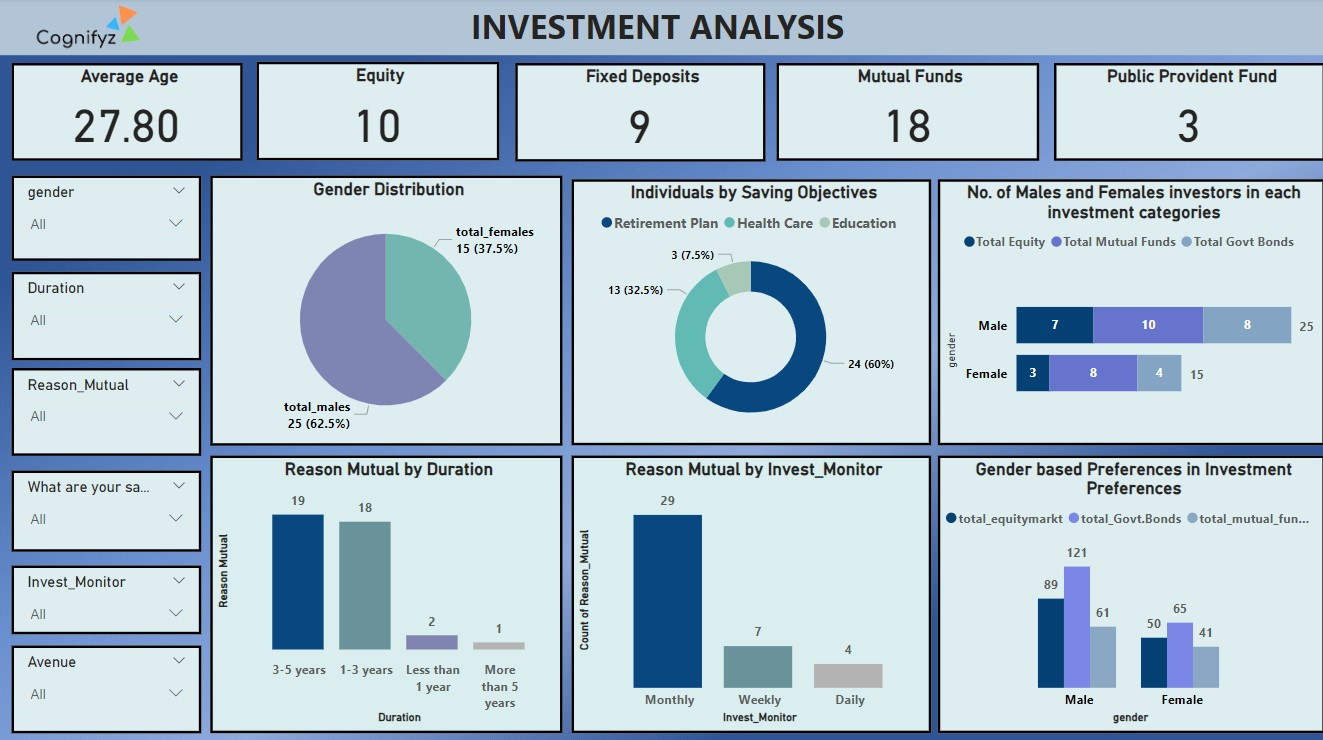

Layout of this report page (visuals, bound fields, positions):
{"tool":"powerbi","page":{"name":"Dasboard1","canvas":[1280,720],"ordinal":6},"visuals":[{"type":"card","title":"Average Age","fields":{"Values":["Sales_data.Average_age"]},"box":[12.1,62.7,223.2,94.1],"z":0},{"type":"textbox","box":[0,0,1280.3,55],"z":1000},{"type":"card","title":"Equity","fields":{"Values":["Sales_data.correlation_for_Equity"]},"box":[248.5,61.5,234,95.3],"z":2000},{"type":"card","title":"Fixed Deposits","fields":{"Values":["Sales_data.correlation_for_fixeddeposits"]},"box":[498.3,62.7,241.3,95.3],"z":3000},{"type":"card","title":"Mutual Funds","fields":{"Values":["Sales_data.correlation_for_mutualfunds"]},"box":[750.4,62.7,253.4,94.1],"z":4000},{"type":"card","title":"Public Provident Fund","fields":{"Values":["Sales_data.correlation_for_PPF"]},"box":[1018.2,62.7,261.8,94.1],"z":5000},{"type":"slicer","fields":{"Values":["Sales_data.Duration"]},"box":[12.1,264.2,183.4,85.7],"z":6000},{"type":"slicer","fields":{"Values":["Sales_data.Reason_Mutual"]},"box":[12.1,357.1,183.4,84.5],"z":7000},{"type":"slicer","fields":{"Values":["Sales_data.gender"]},"box":[12.1,171.3,183.4,82],"z":8000},{"type":"slicer","fields":{"Values":["Sales_data.What are your savings objectives?"]},"box":[12.1,456,183.4,78.4],"z":9000},{"type":"slicer","fields":{"Values":["Sales_data.Invest_Monitor"]},"box":[12.1,547.7,183.4,66.4],"z":10000},{"type":"slicer","fields":{"Values":["Sales_data.Avenue"]},"box":[12.1,624.9,183.4,84.5],"z":11000},{"type":"pieChart","title":"Gender Distribution","fields":{"Category":["Sales_data.gender"],"Y":["Sales_data.total_females","Sales_data.total_males"]},"box":[203.9,171.3,340.2,260.6],"z":12000},{"type":"donutChart","title":"Individuals by Saving Objectives","fields":{"Category":["Sales_data.What are your savings objectives?"],"Y":["CountNonNull(Sales_data.gender)"]},"box":[552.5,174.9,347.5,257],"z":13000},{"type":"barChart","title":"No. of Males and Females investors in each investment categories","fields":{"Category":["Sales_data.gender"],"Y":["Sales_data.Total Equity by Gender","Sales_data.Total Mutual Funds by Gender","Sales_data.Total Govt Bonds by Gender"]},"box":[906,174.9,374,257],"z":14000},{"type":"columnChart","title":" Reason Mutual by Duration","fields":{"Category":["Sales_data.Duration"],"Y":["CountNonNull(Sales_data.Reason_Mutual)"]},"box":[203.9,441.6,340.2,267.8],"z":15000},{"type":"columnChart","title":"Reason Mutual by Invest_Monitor","fields":{"Category":["Sales_data.Invest_Monitor"],"Y":["CountNonNull(Sales_data.Reason_Mutual)"]},"box":[552.5,441.6,347.5,267.8],"z":16000},{"type":"clusteredColumnChart","title":"Gender based Preferences in Investment Preferences","fields":{"Y":["Sales_data.total_equitymarkt","Sales_data.total_govtbonds","Sales_data.total_mutual_funds"],"Category":["Sales_data.gender"]},"box":[906,441.6,374,267.8],"z":17000},{"type":"image","box":[12.1,0,148.4,55.5],"z":18000}]}

Visuals, with their boxes in screenshot pixels (x1, y1, x2, y2), scaled from the page's 1280x720 canvas onto the 1323x740 screenshot:
"Average Age" card: x1=13, y1=64, x2=243, y2=161
textbox: x1=0, y1=0, x2=1322, y2=57
"Equity" card: x1=257, y1=63, x2=499, y2=161
"Fixed Deposits" card: x1=515, y1=64, x2=764, y2=162
"Mutual Funds" card: x1=776, y1=64, x2=1038, y2=161
"Public Provident Fund" card: x1=1052, y1=64, x2=1322, y2=161
slicer - Sales_data.Duration: x1=13, y1=272, x2=202, y2=360
slicer - Sales_data.Reason_Mutual: x1=13, y1=367, x2=202, y2=454
slicer - Sales_data.gender: x1=13, y1=176, x2=202, y2=260
slicer - Sales_data.What are your savings objectives?: x1=13, y1=469, x2=202, y2=549
slicer - Sales_data.Invest_Monitor: x1=13, y1=563, x2=202, y2=631
slicer - Sales_data.Avenue: x1=13, y1=642, x2=202, y2=729
"Gender Distribution" pieChart: x1=211, y1=176, x2=562, y2=444
"Individuals by Saving Objectives" donutChart: x1=571, y1=180, x2=930, y2=444
"No. of Males and Females investors in each investment categories" barChart: x1=936, y1=180, x2=1322, y2=444
" Reason Mutual by Duration" columnChart: x1=211, y1=454, x2=562, y2=729
"Reason Mutual by Invest_Monitor" columnChart: x1=571, y1=454, x2=930, y2=729
"Gender based Preferences in Investment Preferences" clusteredColumnChart: x1=936, y1=454, x2=1322, y2=729
image: x1=13, y1=0, x2=166, y2=57
